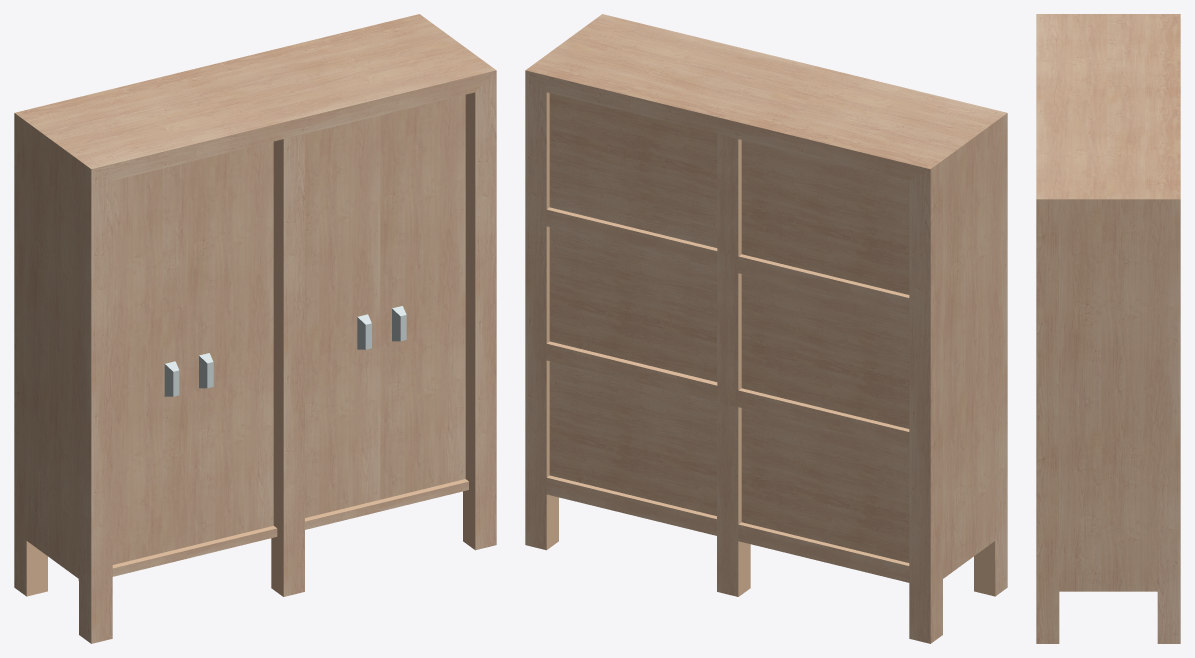
Rendered from armadio-texture.glb.
3 renders of one model, left to right at view 1: azimuth 30°, elevation 25°; view 2: azimuth 150°, elevation 25°; view 3: azimuth 270°, elevation 25°, orthographic. The views are drawn at different scales.
Visible parts, largest first — view 1: Structure, Left-right, Right-right, Left-left, Right-left; view 2: Structure; view 3: Structure.
Part boxes in pixels (left/top/right/bottom): Structure: left=14, top=14, right=496, bottom=643; Left-right: left=187, top=141, right=273, bottom=546; Right-right: left=380, top=94, right=465, bottom=499; Left-left: left=112, top=162, right=187, bottom=564; Right-left: left=305, top=115, right=380, bottom=517; Structure: left=525, top=14, right=1007, bottom=643; Structure: left=1036, top=14, right=1180, bottom=643.
Bounding box in the file's own units: 0.4574 × 0.512 × 0.1507.
4 materials, 1 textured.
